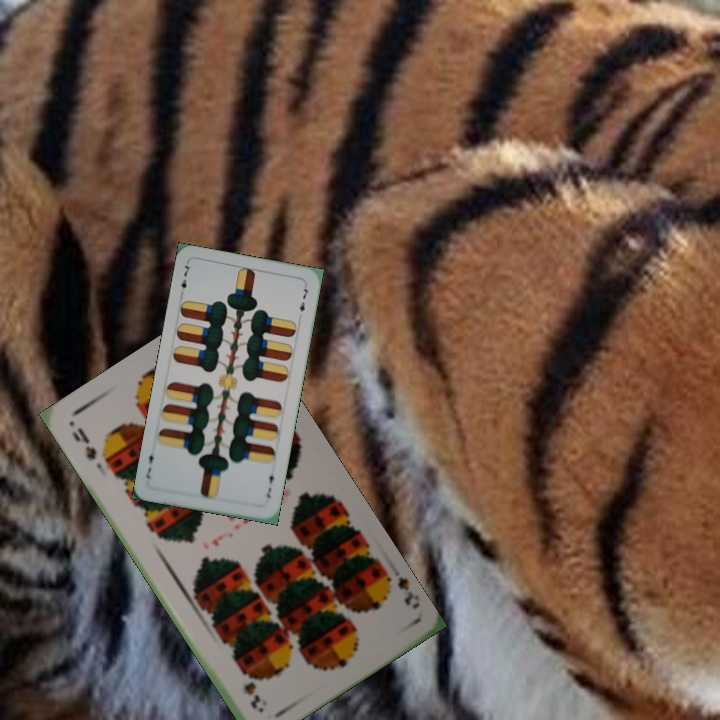E7: (176, 259, 194, 299), (262, 467, 277, 501)
S9: (375, 565, 423, 612), (68, 423, 100, 463)
